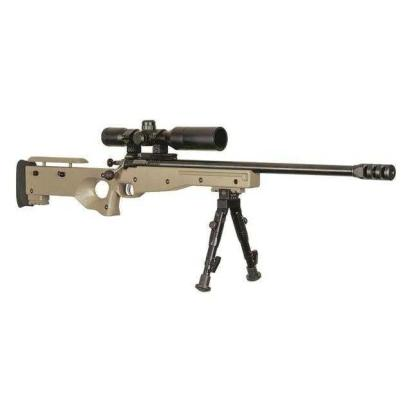Gun: (14, 116, 396, 223)
